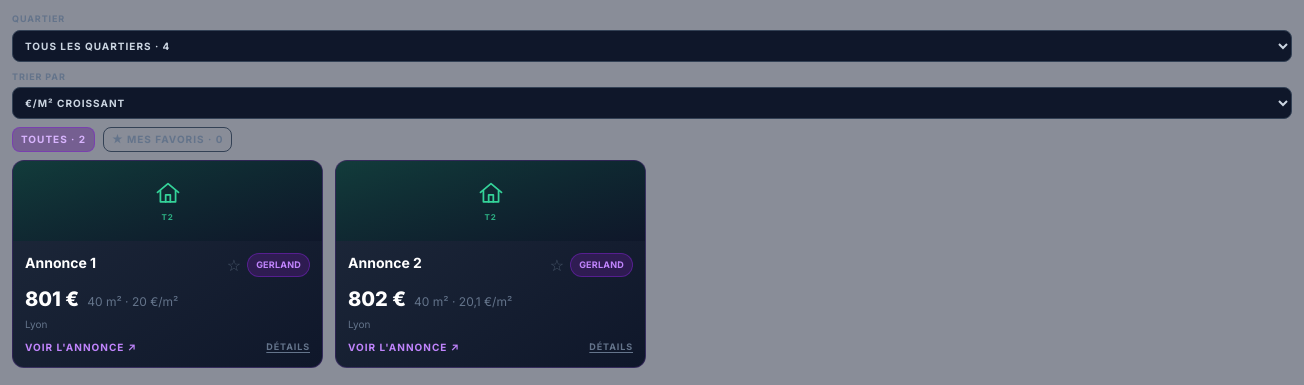
Test: AnnoncesList › filtre "Mes favoris" (ORA-132) › shows an empty-favorites message when no annonce is favorited
The image size is (1304, 385).
Expected: the text "Annonce 1" is shown, [25,253,96,273]
Click the tab "★ Mes favoris · 0". click: [168, 140]
box: [103,127,232,152]
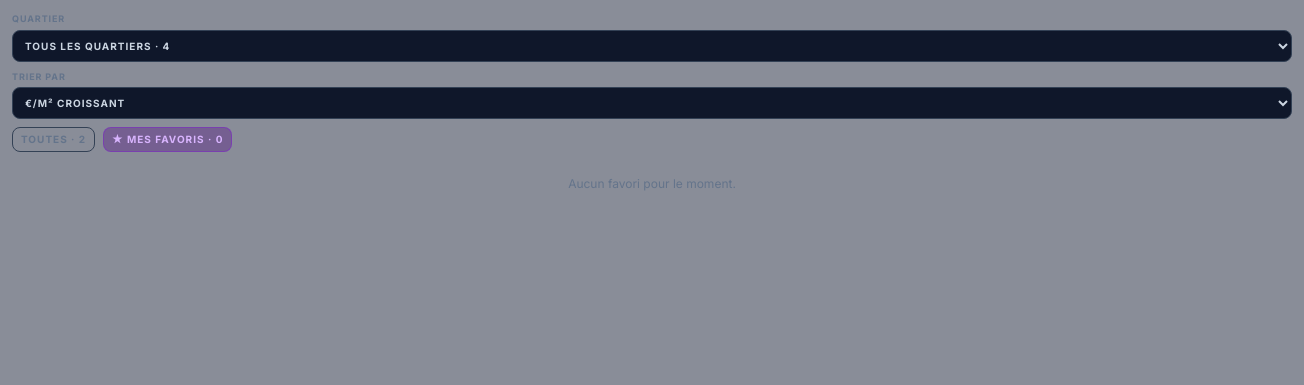
Expected: the tab "Toutes · 2" is shown, [12,127,95,152]
Now the text "Aucun favori pour le moment." is shown, box [568,176,736,191]
